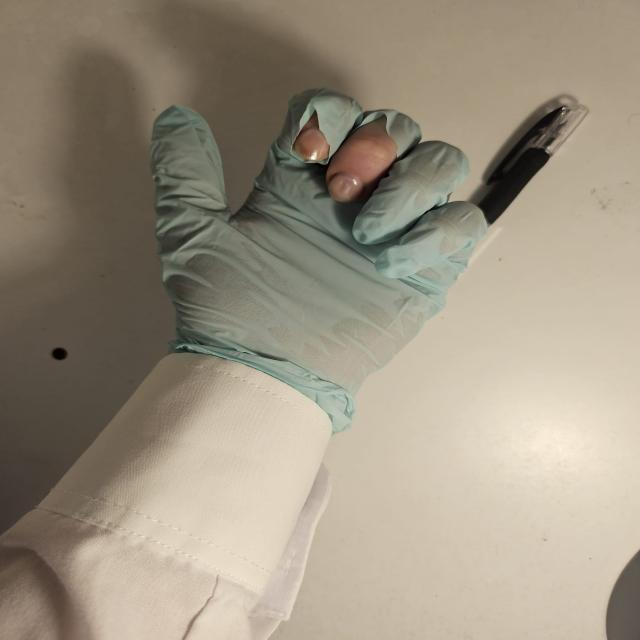gloves_damaged: (142, 83, 498, 422)
